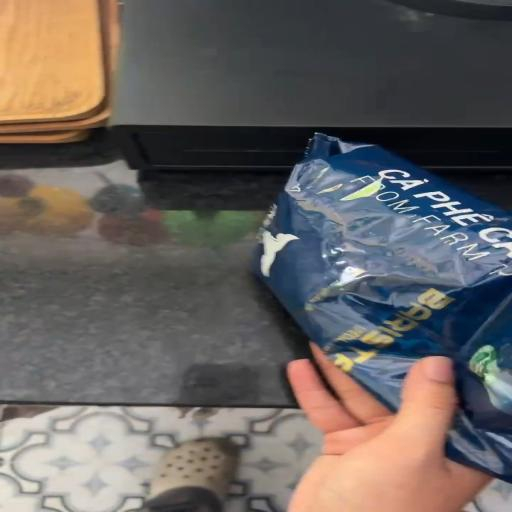cafe_hat: (254, 134, 511, 482)
